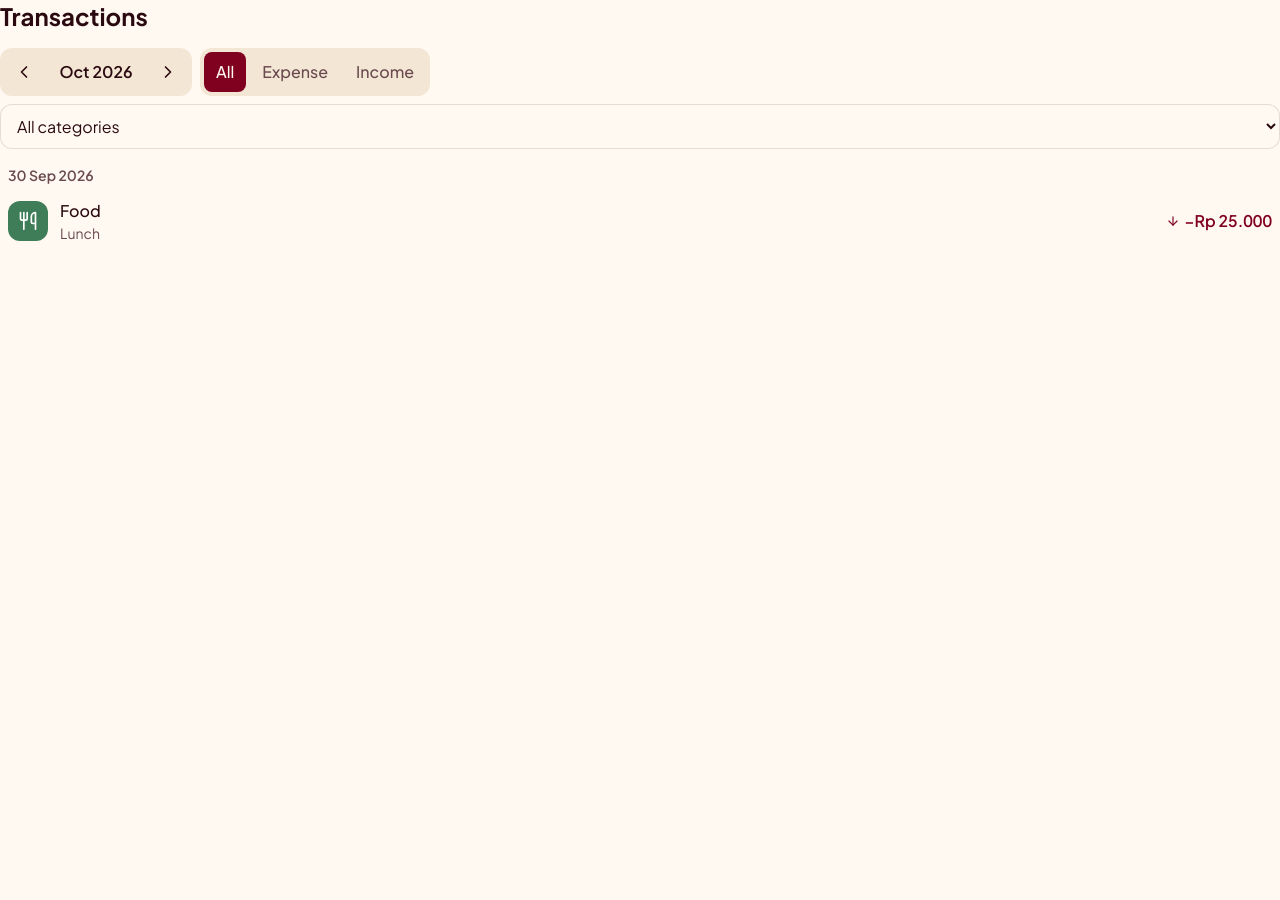
Test: TransactionsPage › asks for confirmation before deleting
What coordinates should you click on to do the following:
click the button "Food Lunch −Rp 25.000"
I would click on:
 (28, 221)
Its box is [0, 189, 1279, 253].
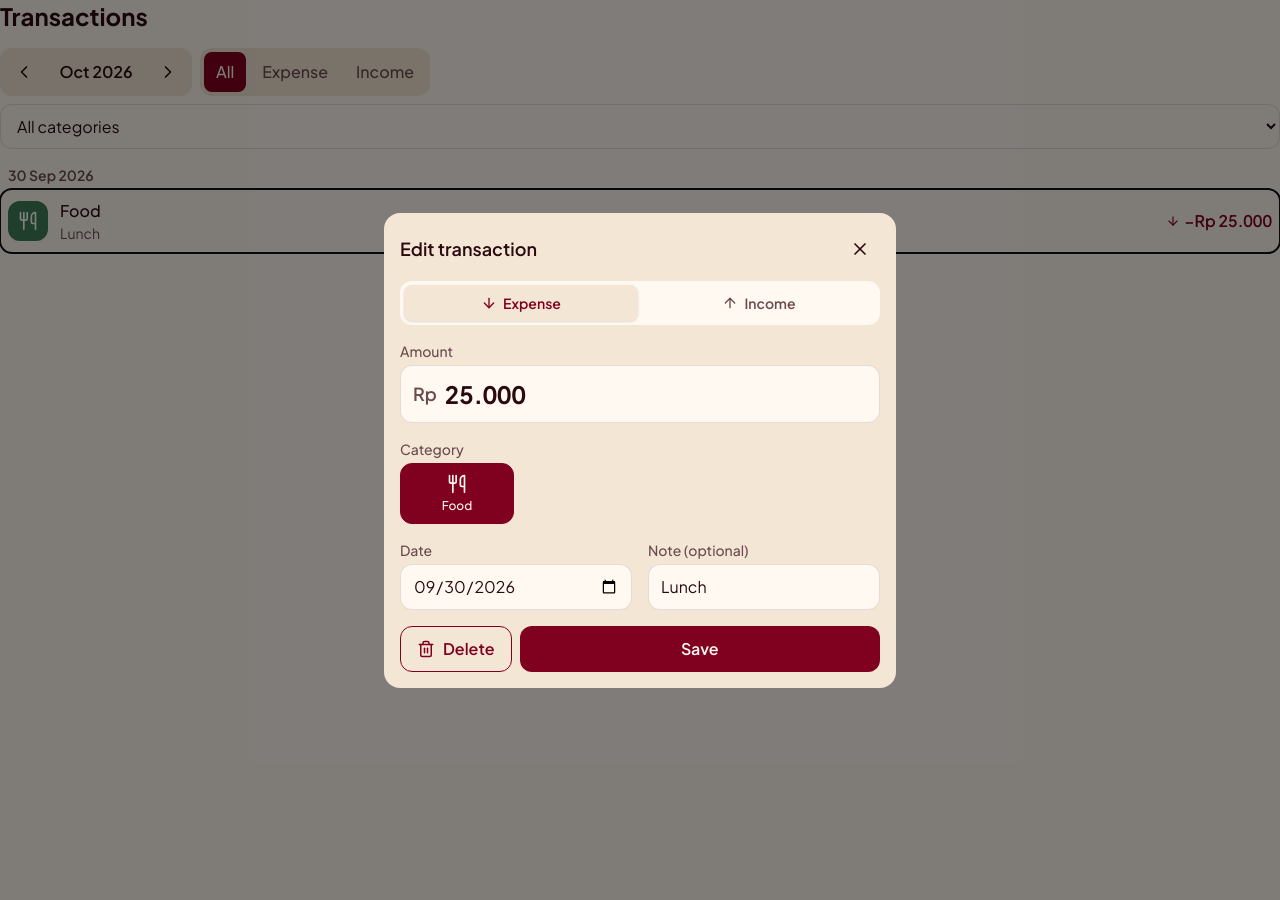
What coordinates should you click on to do the following:
click the button "Delete"
I would click on:
 (456, 648)
Its box is [400, 626, 512, 672].
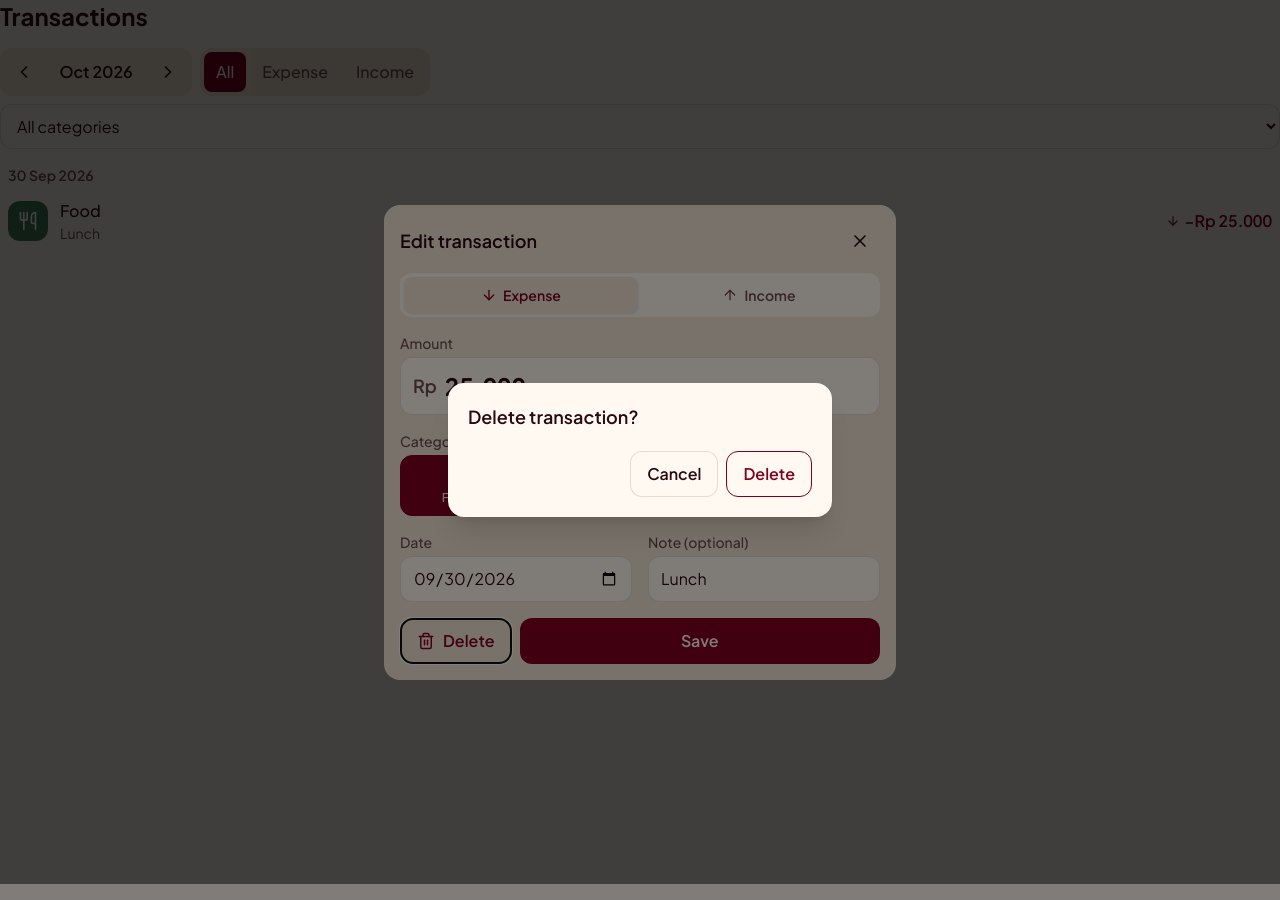
Result: the dialog "Delete transaction?" is shown at [448, 383, 832, 517]
What coordinates should you click on to do the following:
click the button "Cancel"
I would click on:
 (674, 474)
Its box is [630, 451, 718, 497].
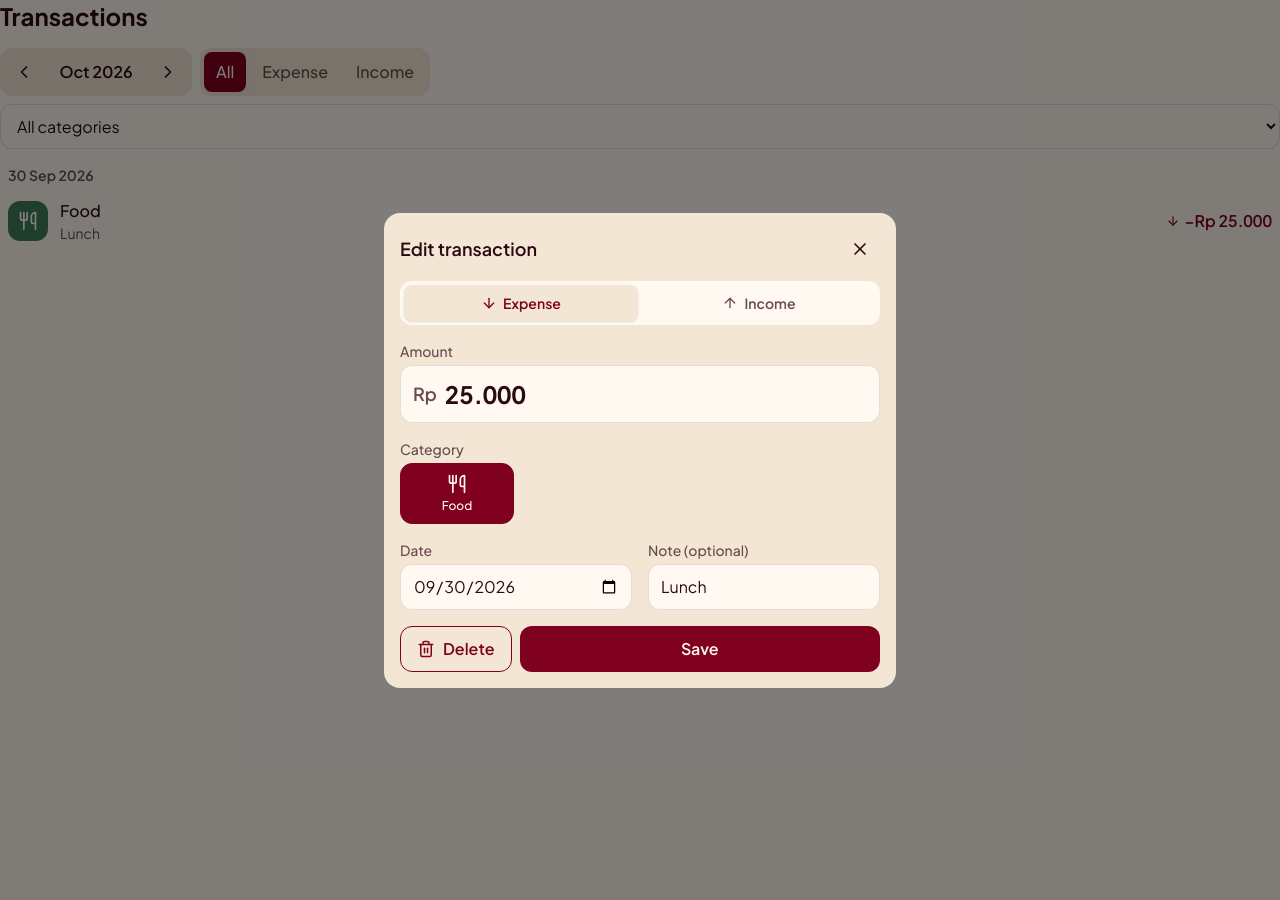
What coordinates should you click on to do the following:
click the button "Delete"
I would click on:
 (456, 648)
Its box is [400, 626, 512, 672].
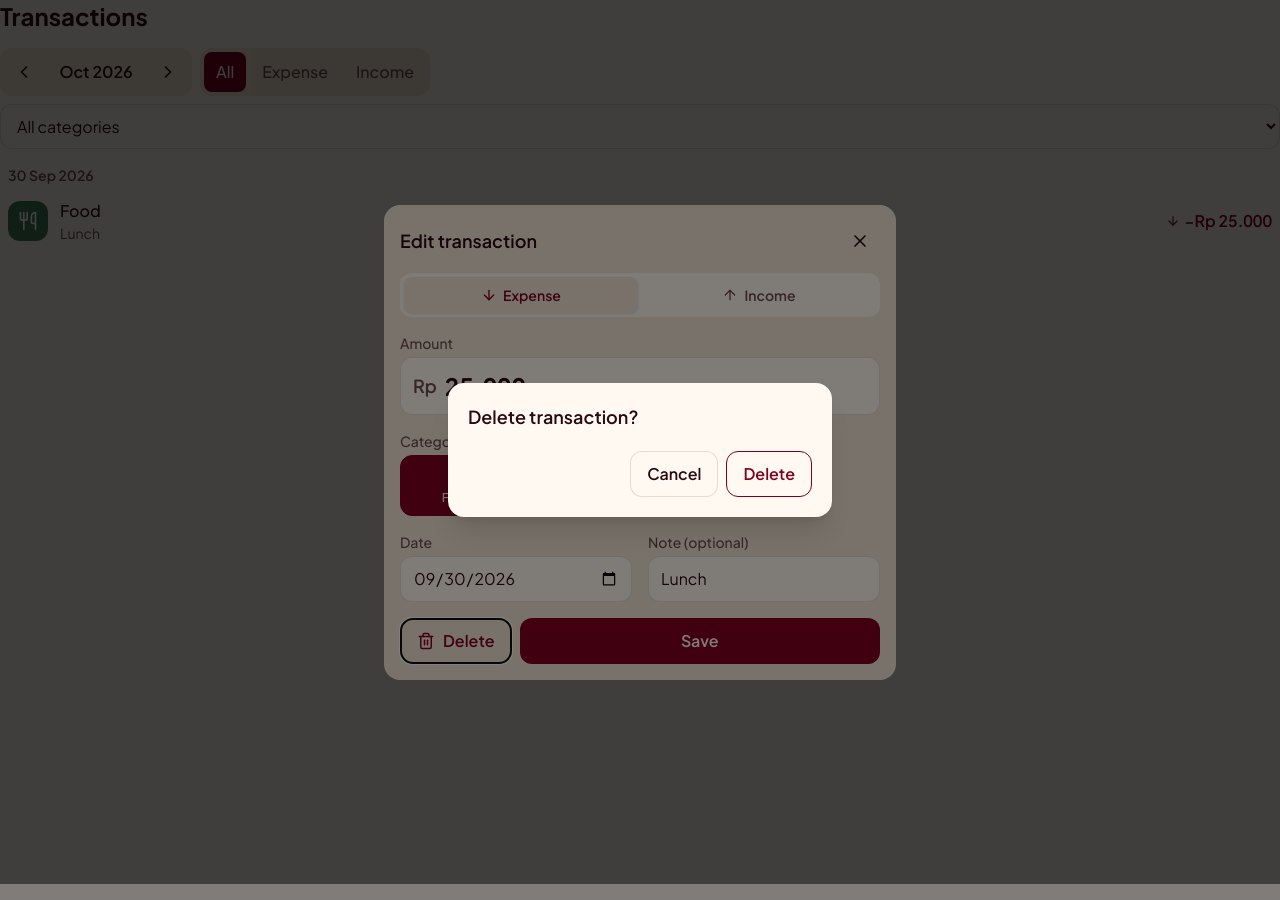
What coordinates should you click on to do the following:
click the button "Delete"
I would click on:
 (769, 474)
Its box is [726, 451, 812, 497].
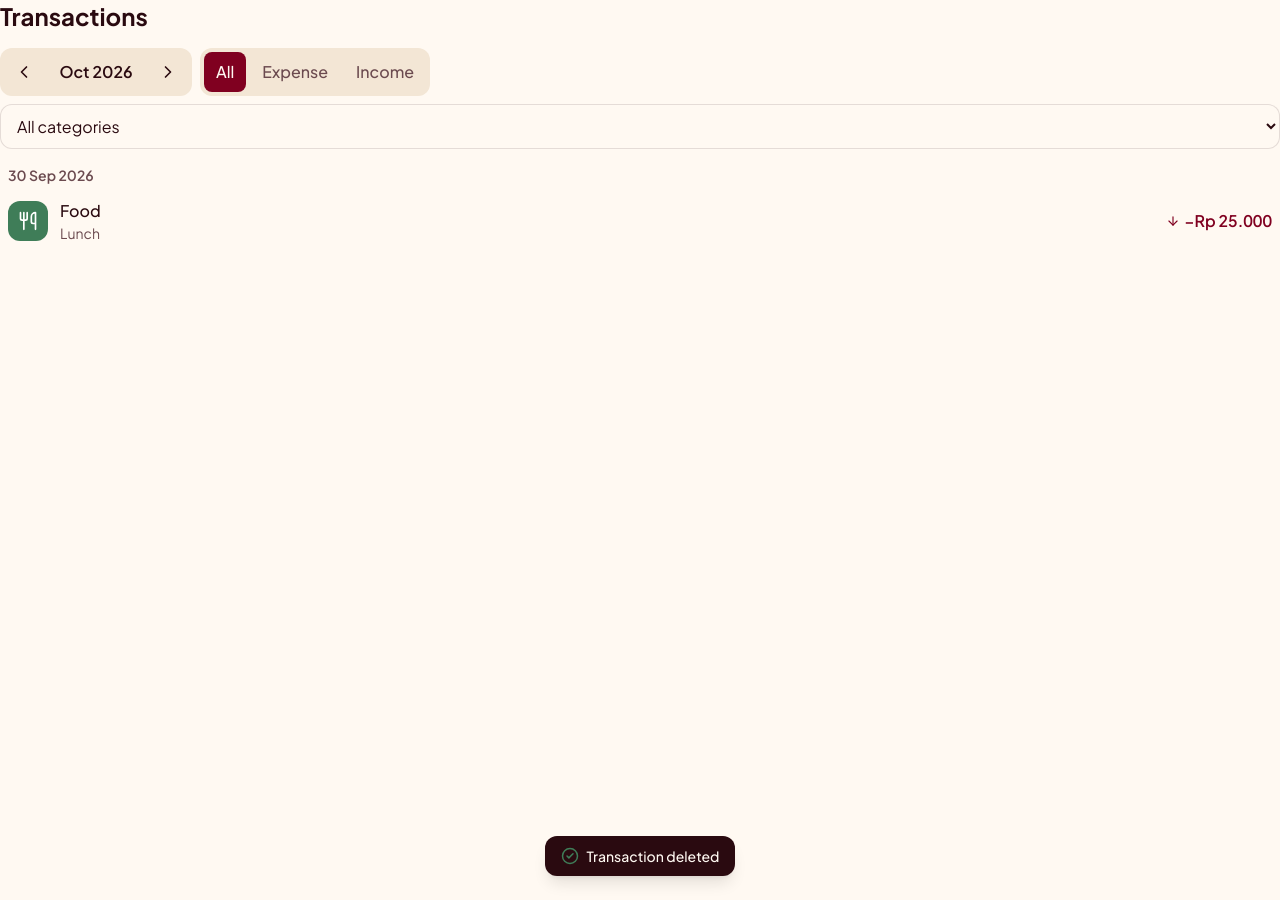
Result: the text "Transaction deleted" is shown at [544, 836, 735, 876]
